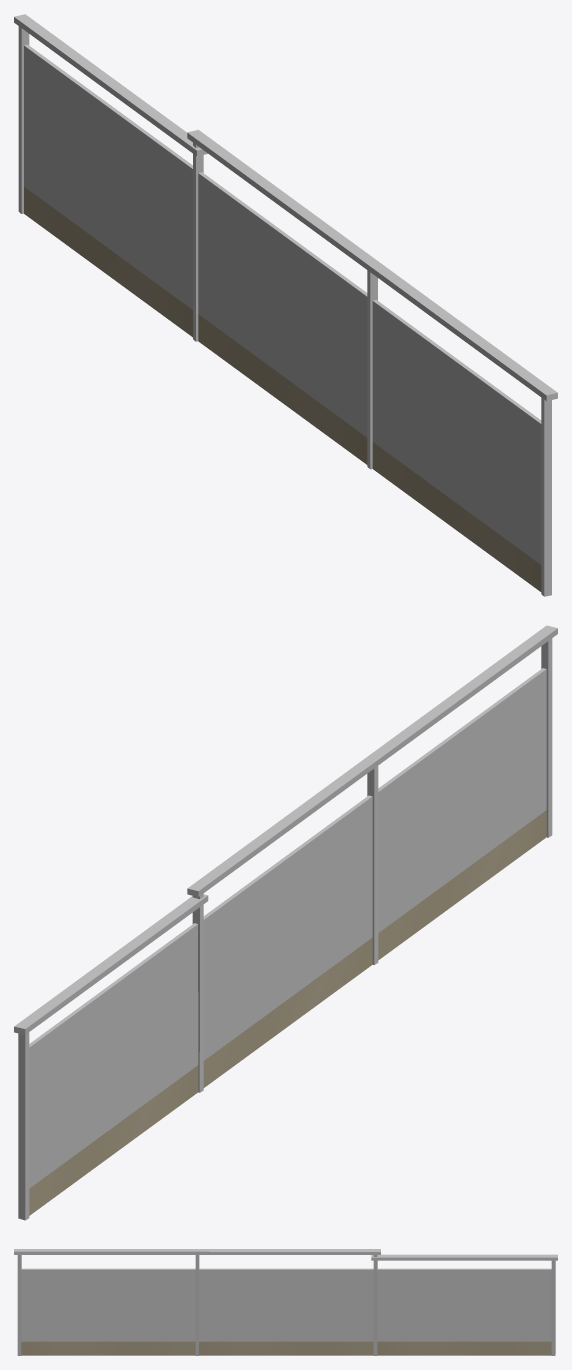
File: ms_mobStruct01wb.fbx
3 views of the same model, one above another, from view 1: azimuth 30°, elevation 25°; view 2: azimuth 150°, elevation 25°; view 3: azimuth 270°, elevation 25° (orthographic). The views are drawn at different scales.
Visible parts, largest first — view 1: ms_mobStruct01wb; view 2: ms_mobStruct01wb; view 3: ms_mobStruct01wb.
Boxes of the visible parts, bbox=[...] form: ms_mobStruct01wb: bbox=[14, 14, 557, 596]; ms_mobStruct01wb: bbox=[14, 625, 557, 1220]; ms_mobStruct01wb: bbox=[14, 1249, 557, 1355].
Size of the model in its own units: 0.078 by 1.34 by 6.32.
